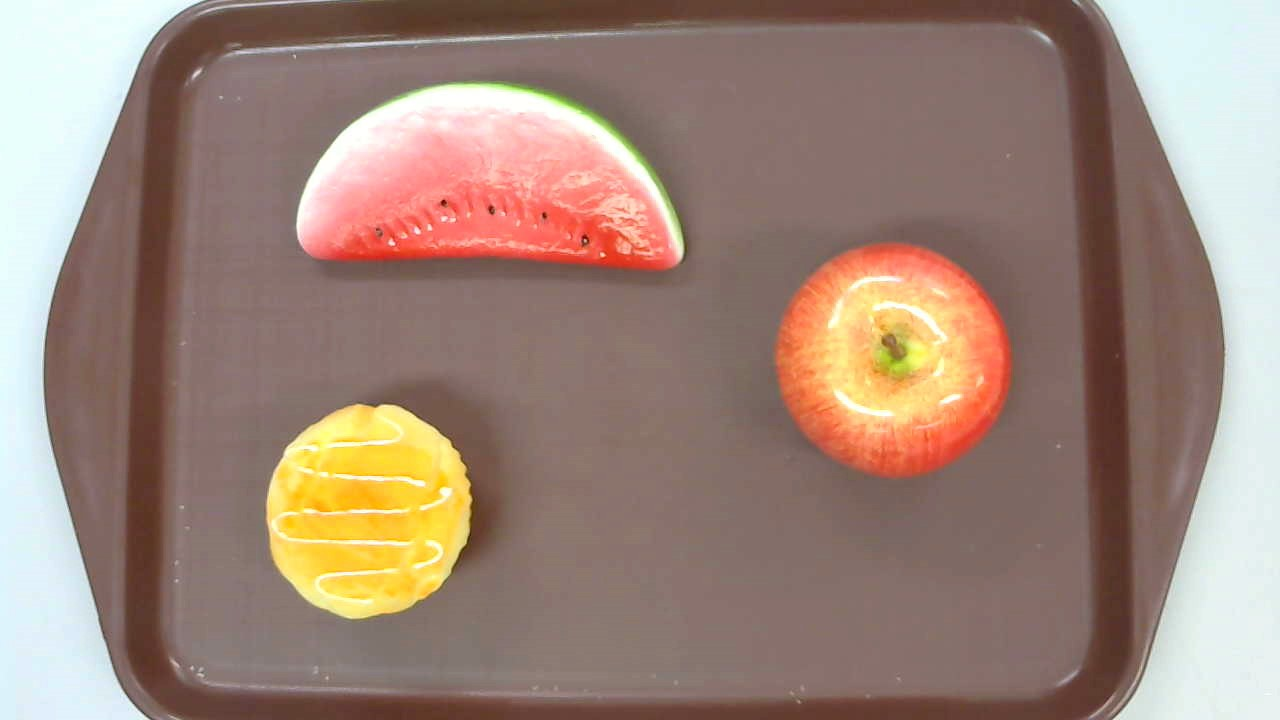cupcake: (266, 403, 471, 620)
red apple: (776, 242, 1012, 478)
water melon: (296, 78, 686, 271)
